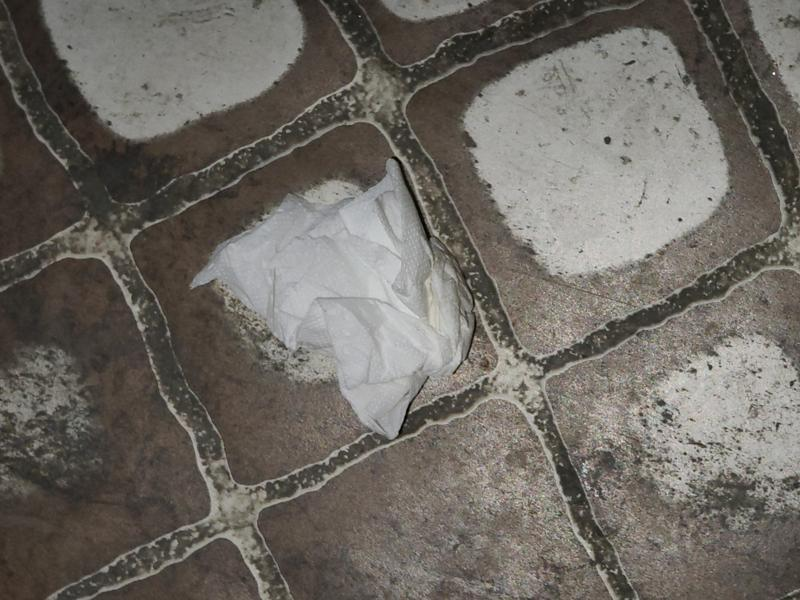papel: (177, 149, 486, 444)
